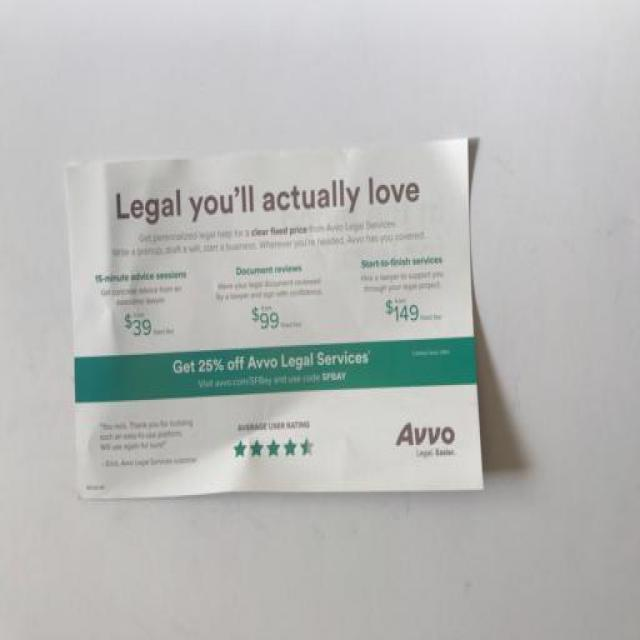paper: (39, 115, 531, 630)
